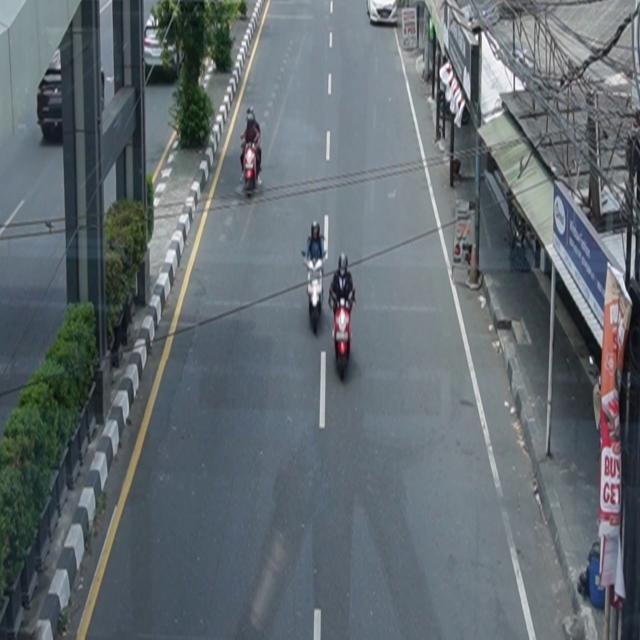car: (37, 48, 106, 141), (144, 14, 183, 79), (367, 1, 398, 26)
